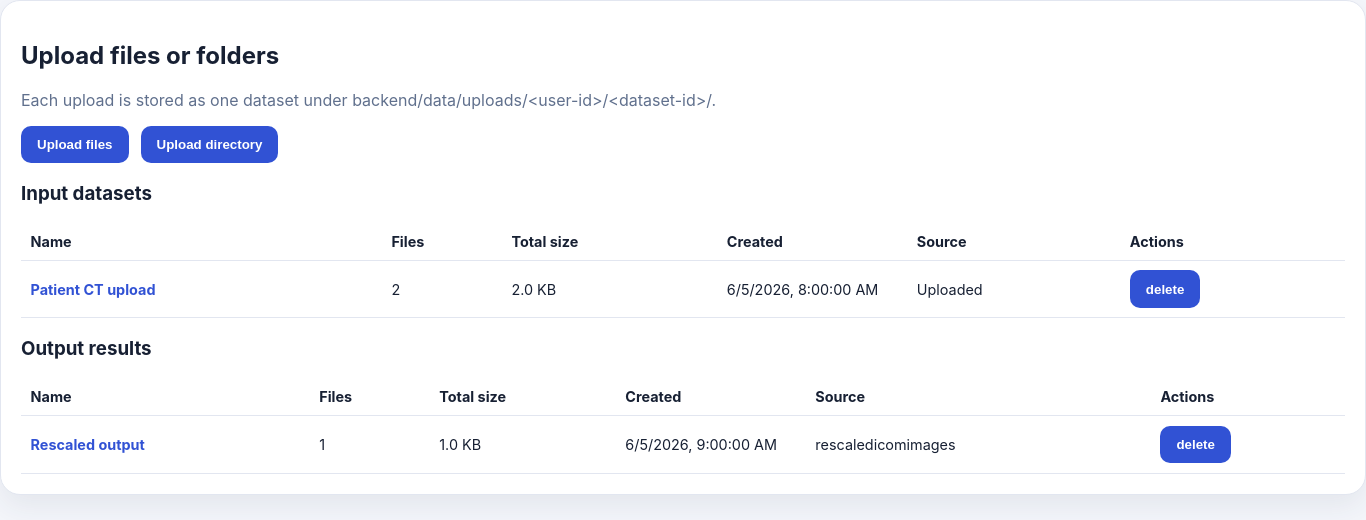
Test: DataPage › deletes a dataset after confirmation
expect the row "Patient CT upload" is shown: met, box [21,260,1345,318]
What coordinates should you click on to do the following:
click the button "delete" in the row of "Patient CT upload"
I would click on:
 (1165, 289)
Its box is [1130,270,1200,308].
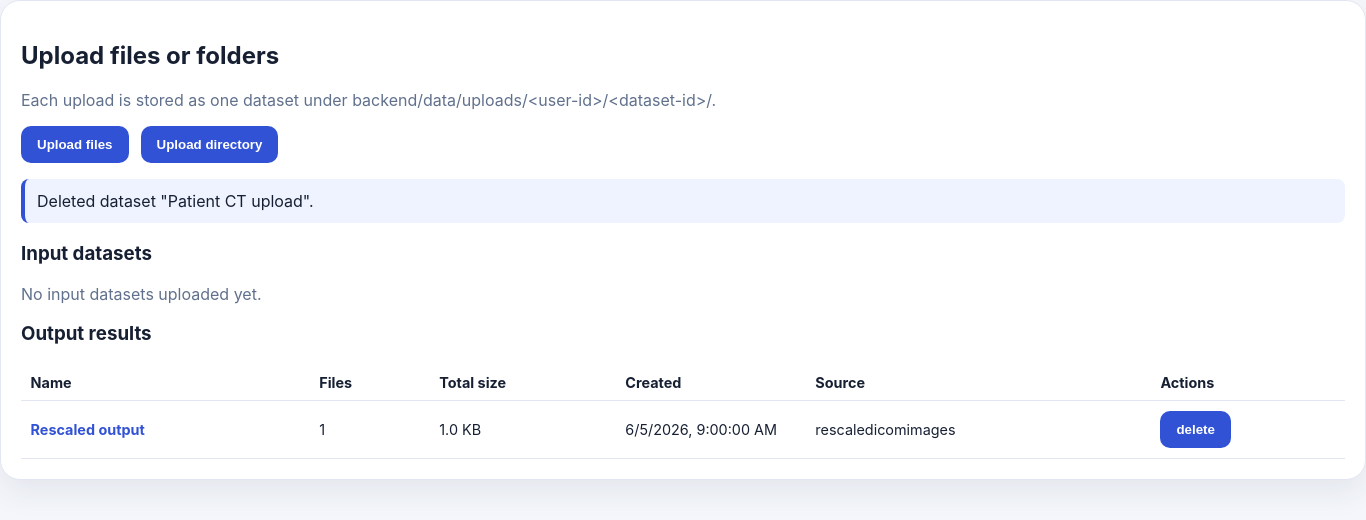
expect the text "Deleted dataset \"Patient CT upload\"." is shown: met, box [21,179,1345,223]
